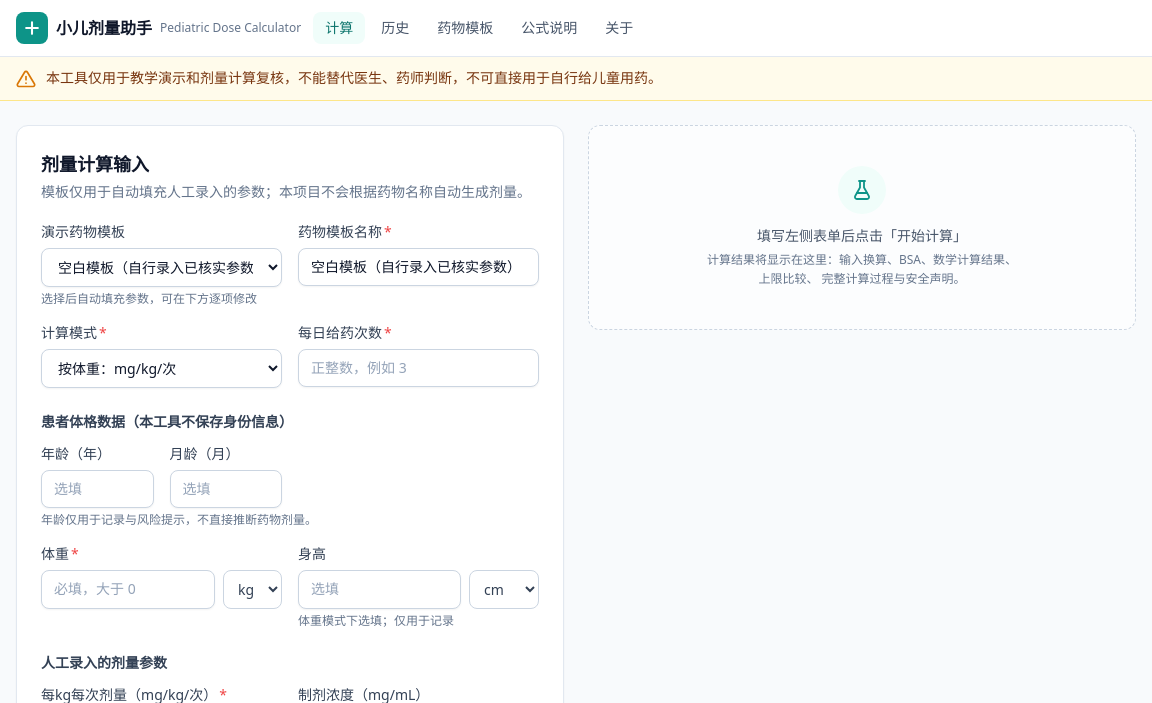
Test case: 页面与按钮冒烟测试 › 清空全部历史（二次确认）
The image size is (1152, 703).
Select "模拟药物A（虚构演示·体重每次）（虚构演示数据）" in the dropdown with id "f-template" at [162, 267], box [41, 248, 282, 287]
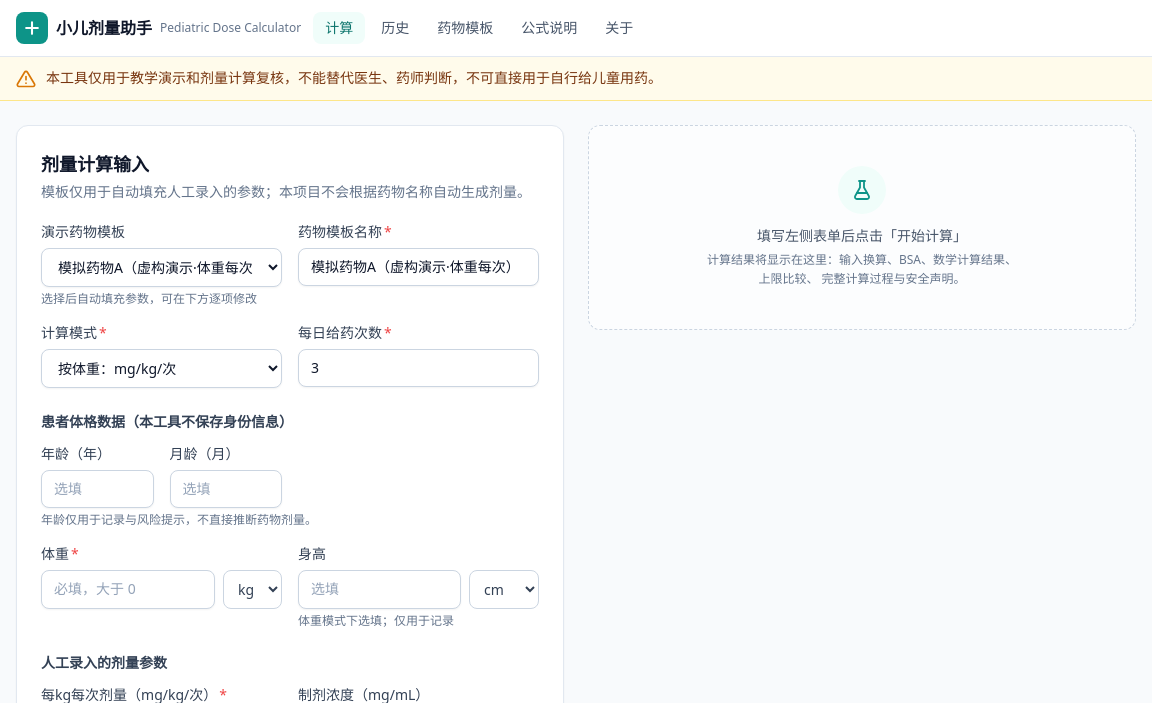
Type "20" into the number field with id "f-weight".
click(128, 589); type("20")  # box [41, 570, 215, 609]
(page scrolled)
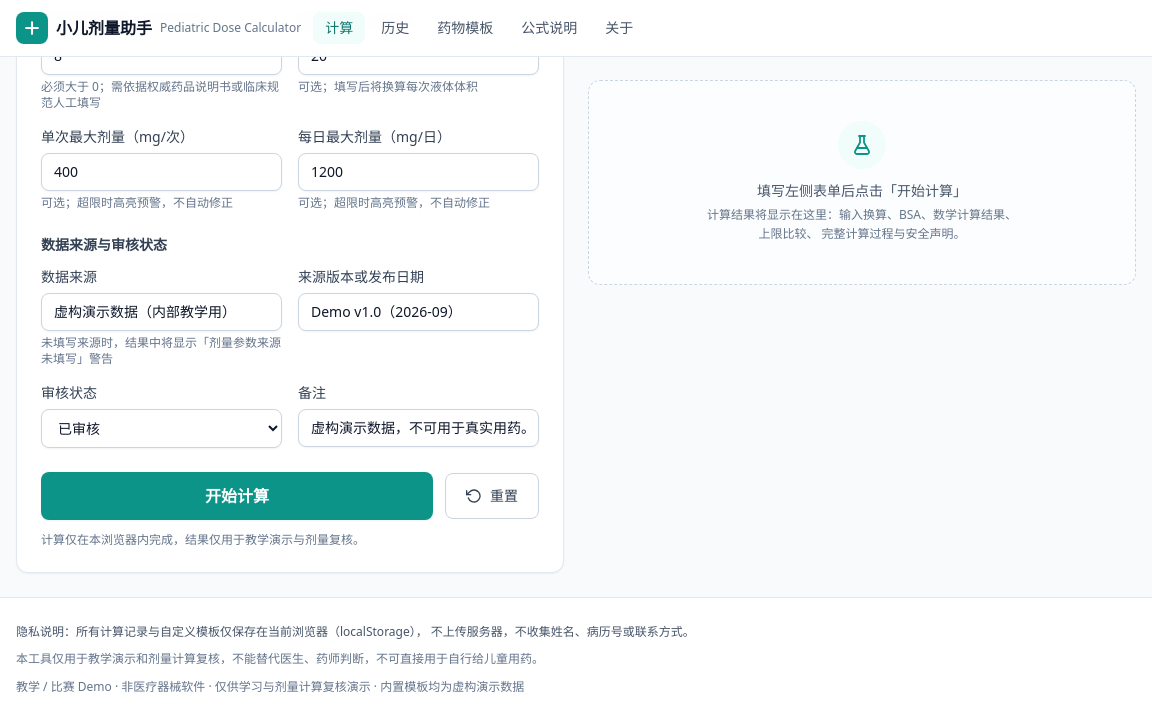
Click the button "开始计算".
click(237, 496)  # box [41, 472, 433, 520]
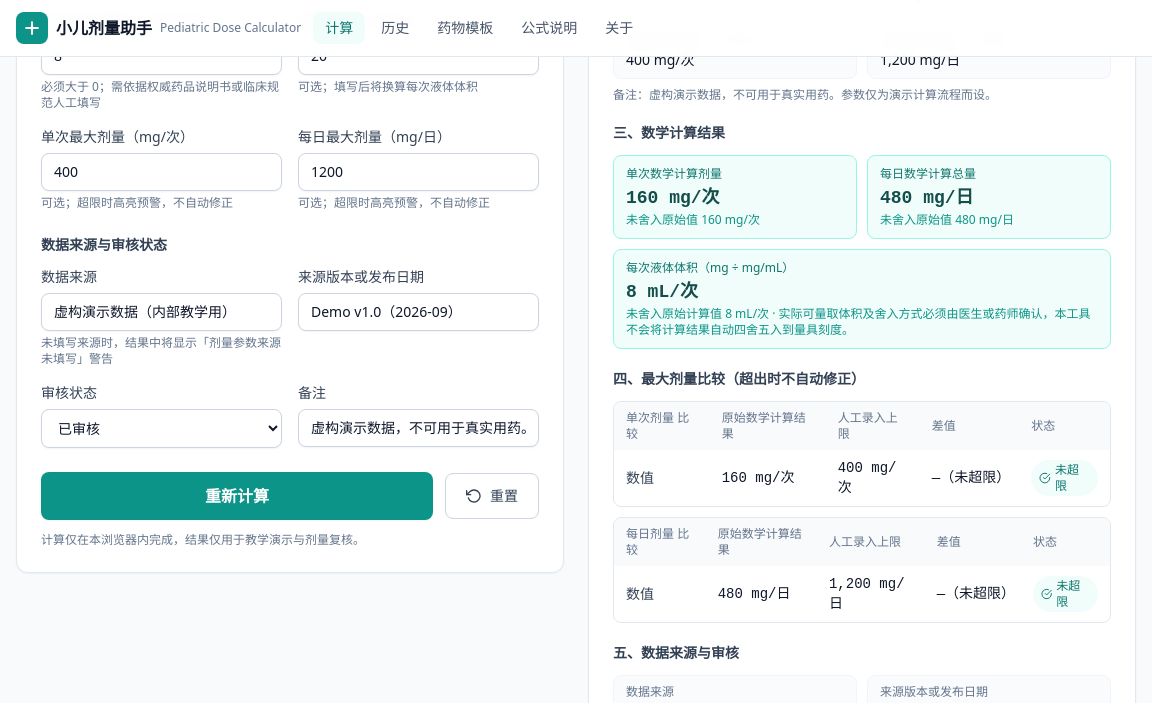
Click the link "历史".
click(395, 28)  # box [381, 18, 409, 37]
(page scrolled)
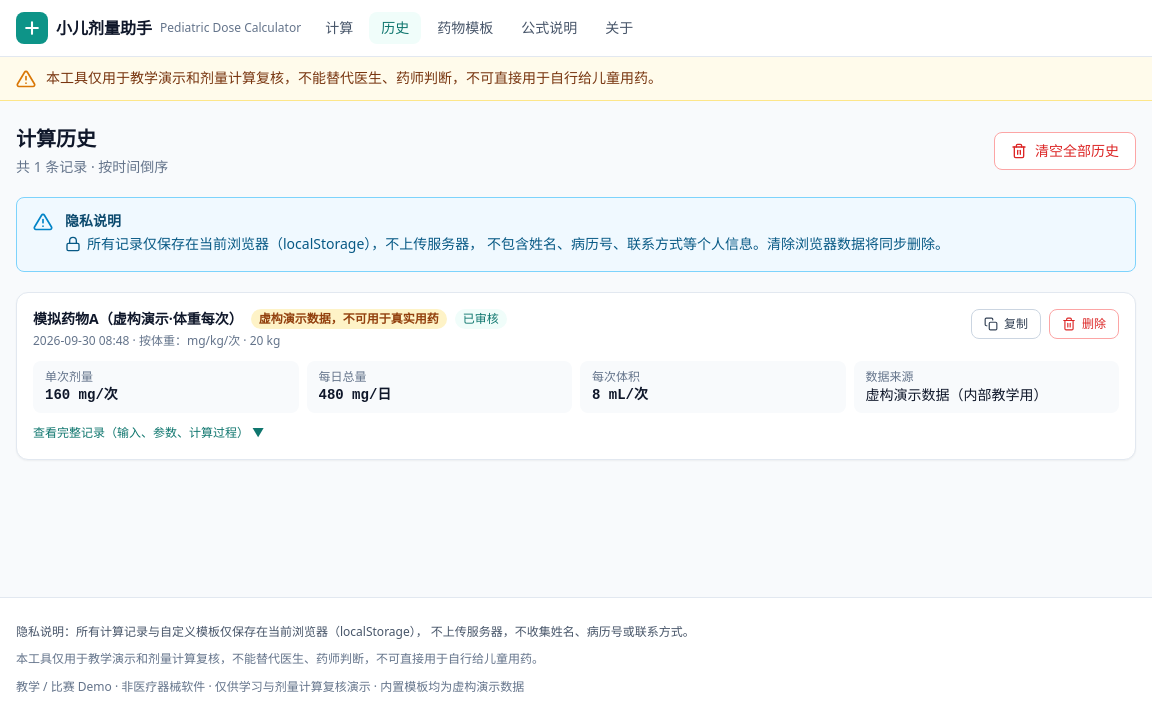
Click the button "清空全部历史".
click(1065, 151)  # box [994, 132, 1136, 170]
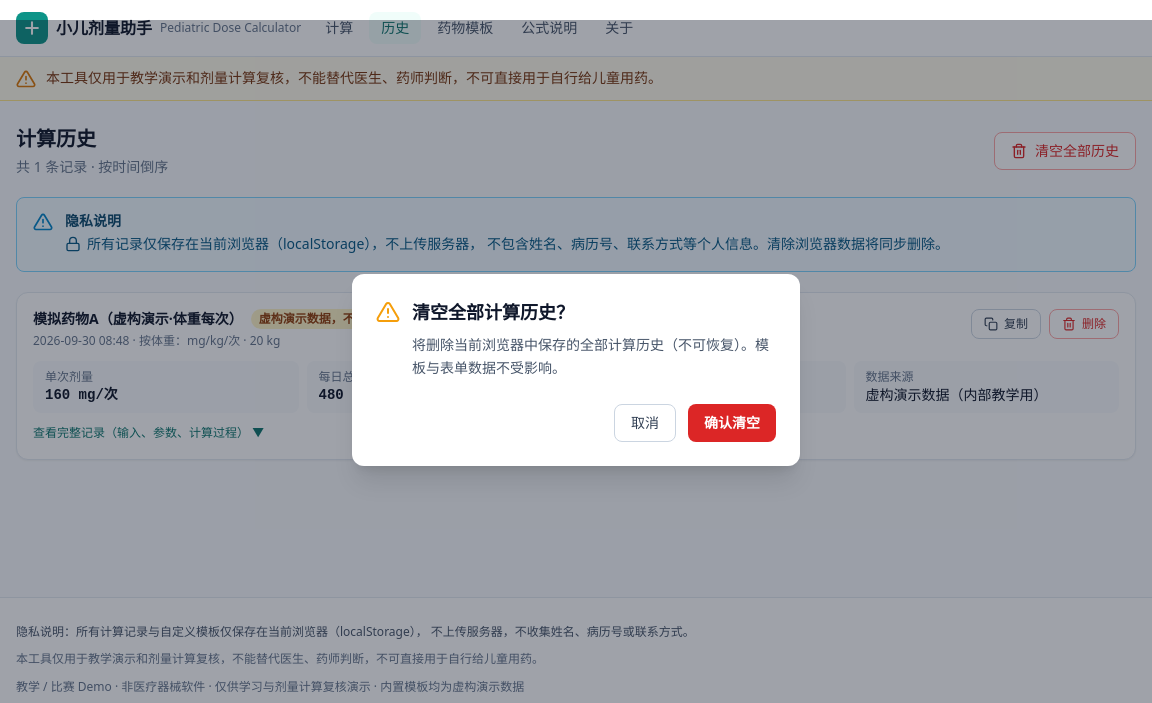
Result: the heading "清空全部计算历史？" is shown at [412, 300, 574, 324]
Click the button "确认清空".
click(732, 423)  # box [688, 404, 776, 442]
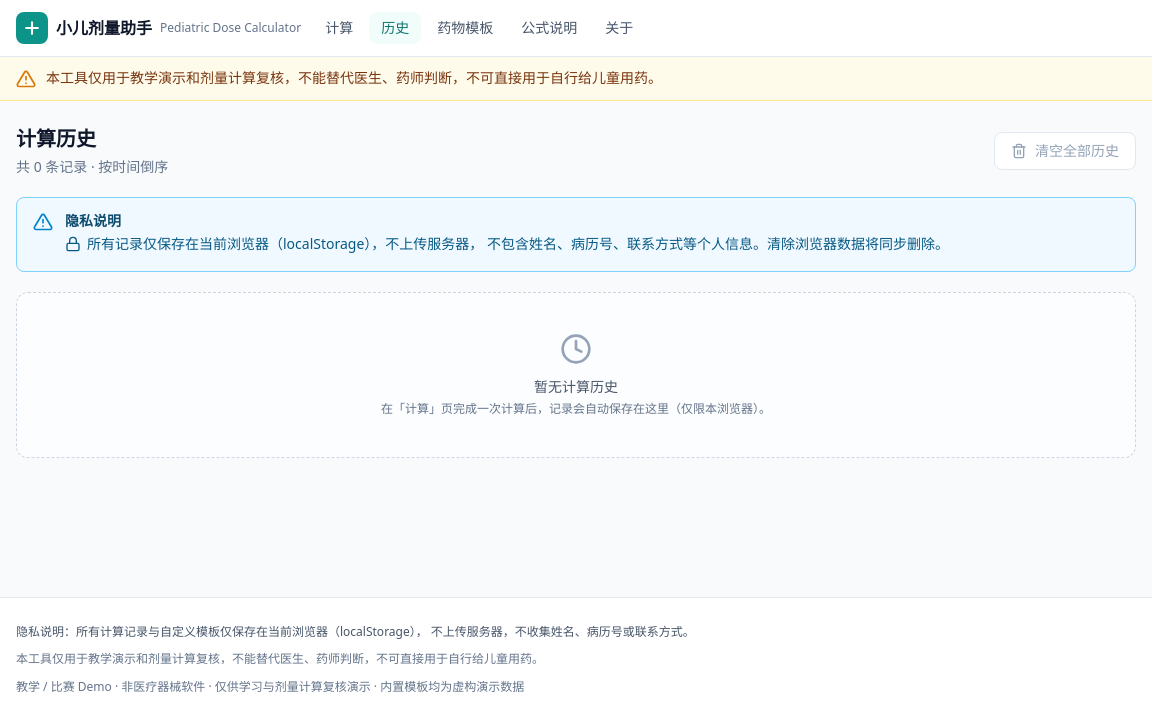
Result: the text "共 0 条记录 · 按时间倒序" is shown at [16, 157, 168, 177]
